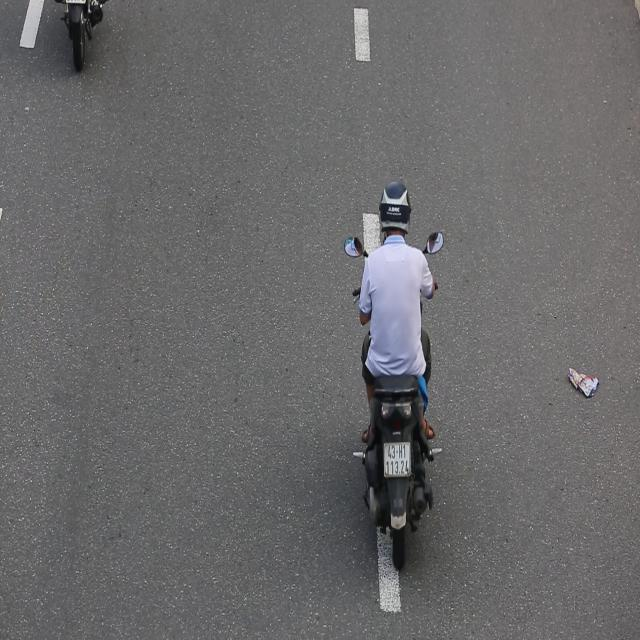motorbike: (332, 168, 448, 570)
